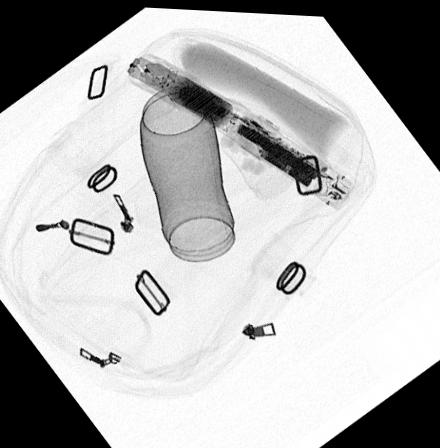Baton: (121, 48, 355, 209)
